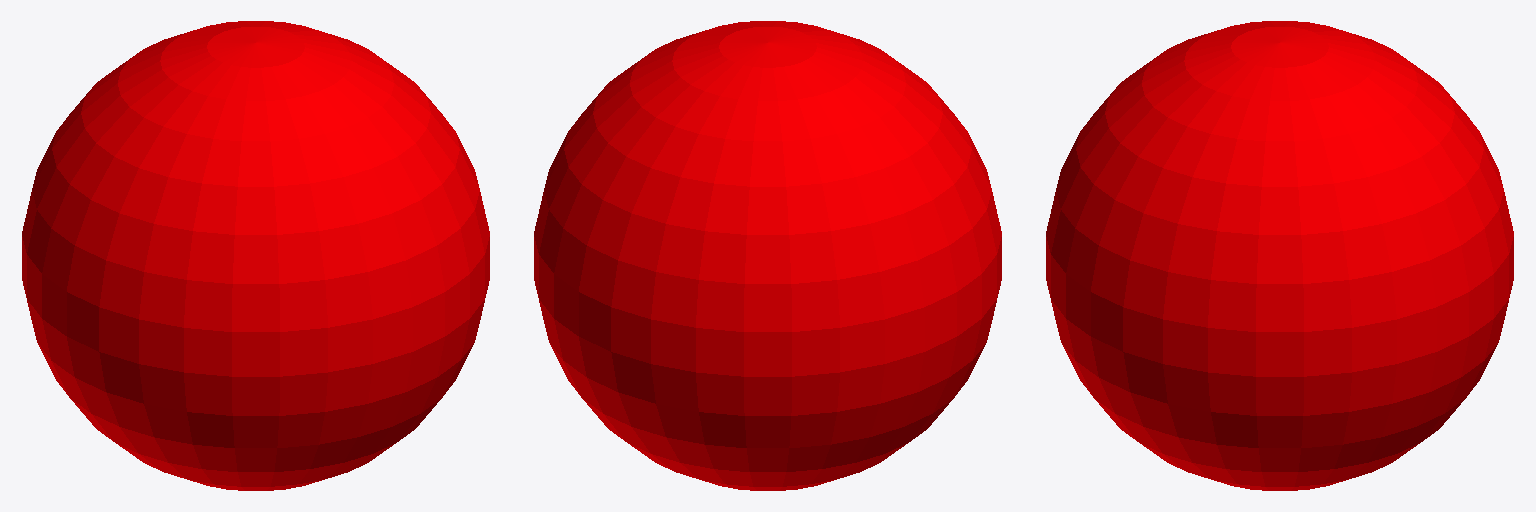
3 renders of one model, left to right at view 1: azimuth 30°, elevation 25°; view 2: azimuth 150°, elevation 25°; view 3: azimuth 270°, elevation 25°, orthographic.
Parts seen in each view (by area): view 1: Ball; view 2: Ball; view 3: Ball.
Boxes of the visible parts, x1,y1,x2,y2 form: Ball: [22, 21, 489, 490]; Ball: [534, 21, 1001, 490]; Ball: [1046, 21, 1513, 490].
Size of the model in its own units: 1.98 by 2 by 1.99.